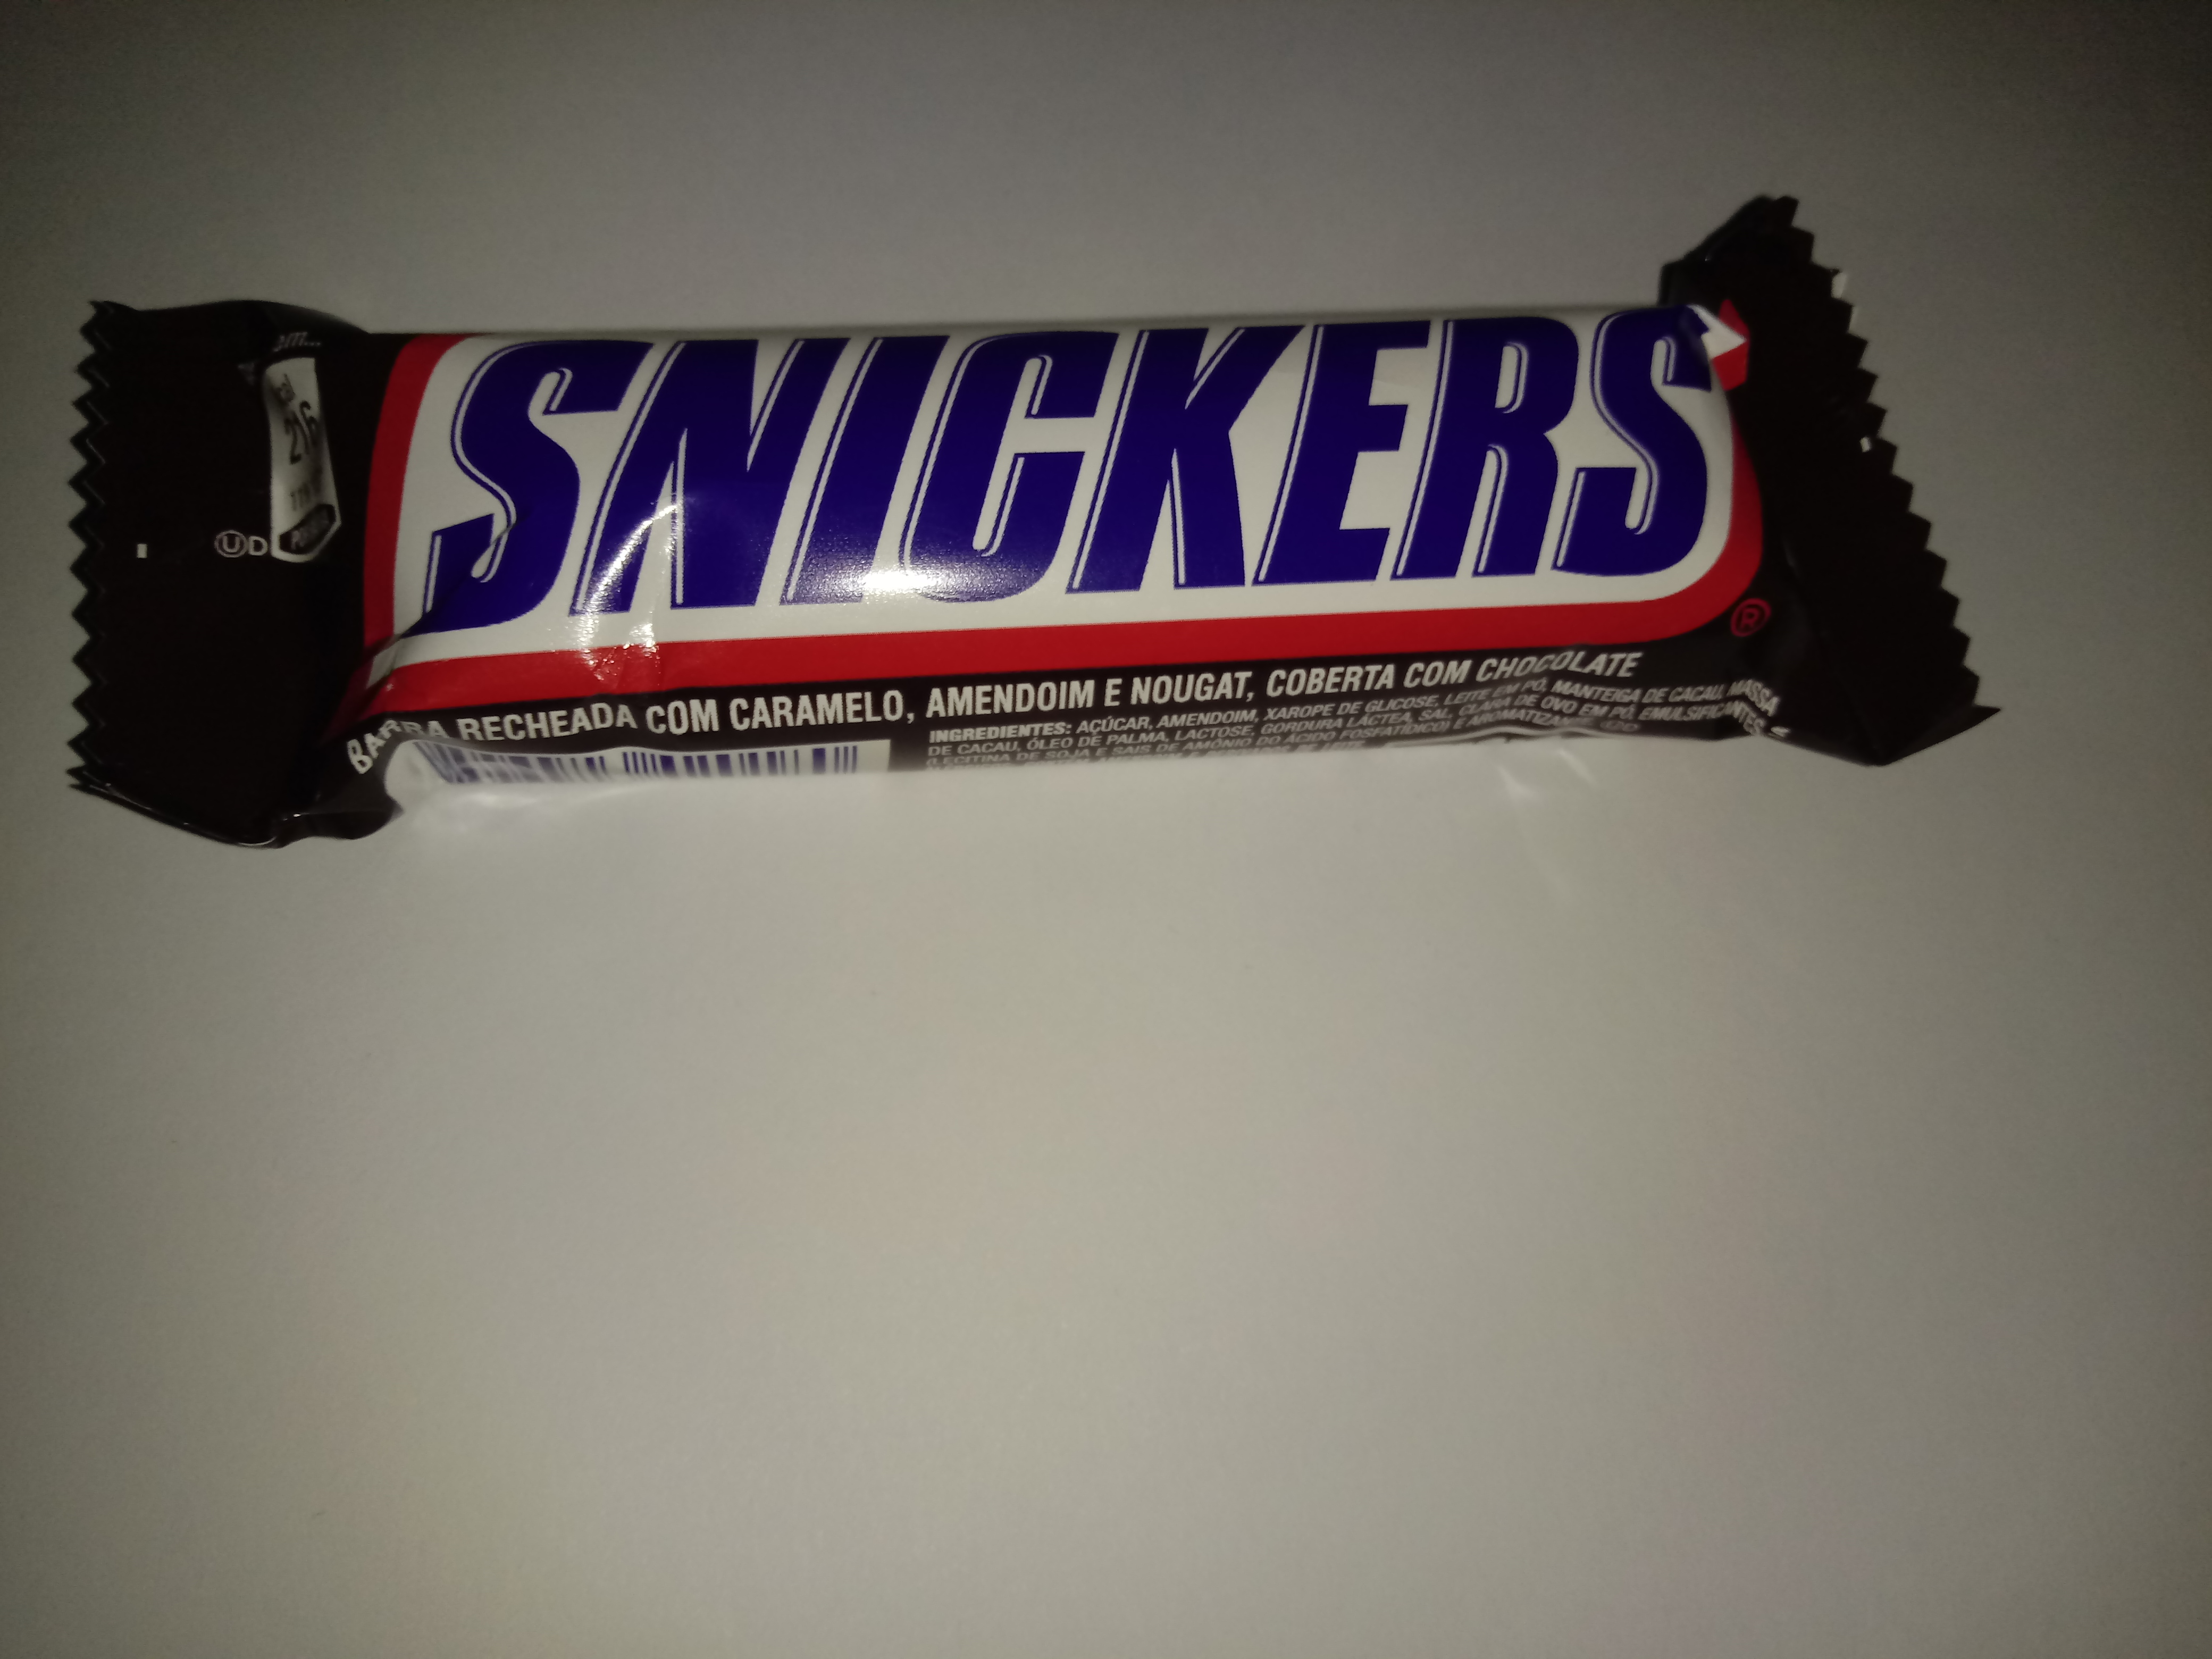snickers: (73, 166, 2057, 863)
